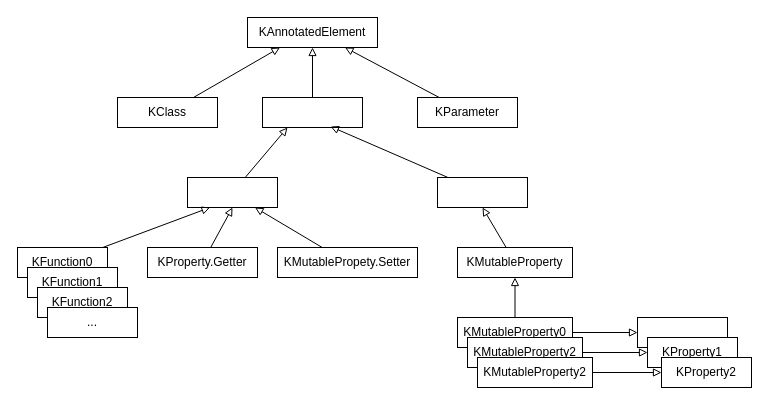
This 769x405 diagram has some shape labels left out. The shapes that lost their labels are listed below. From the top down, each one's centre as x and y in pixels, then its label:
(x=312, y=112): KCallable
(x=232, y=192): KFunction
(x=482, y=192): KProperty
(x=682, y=332): KProperty0
